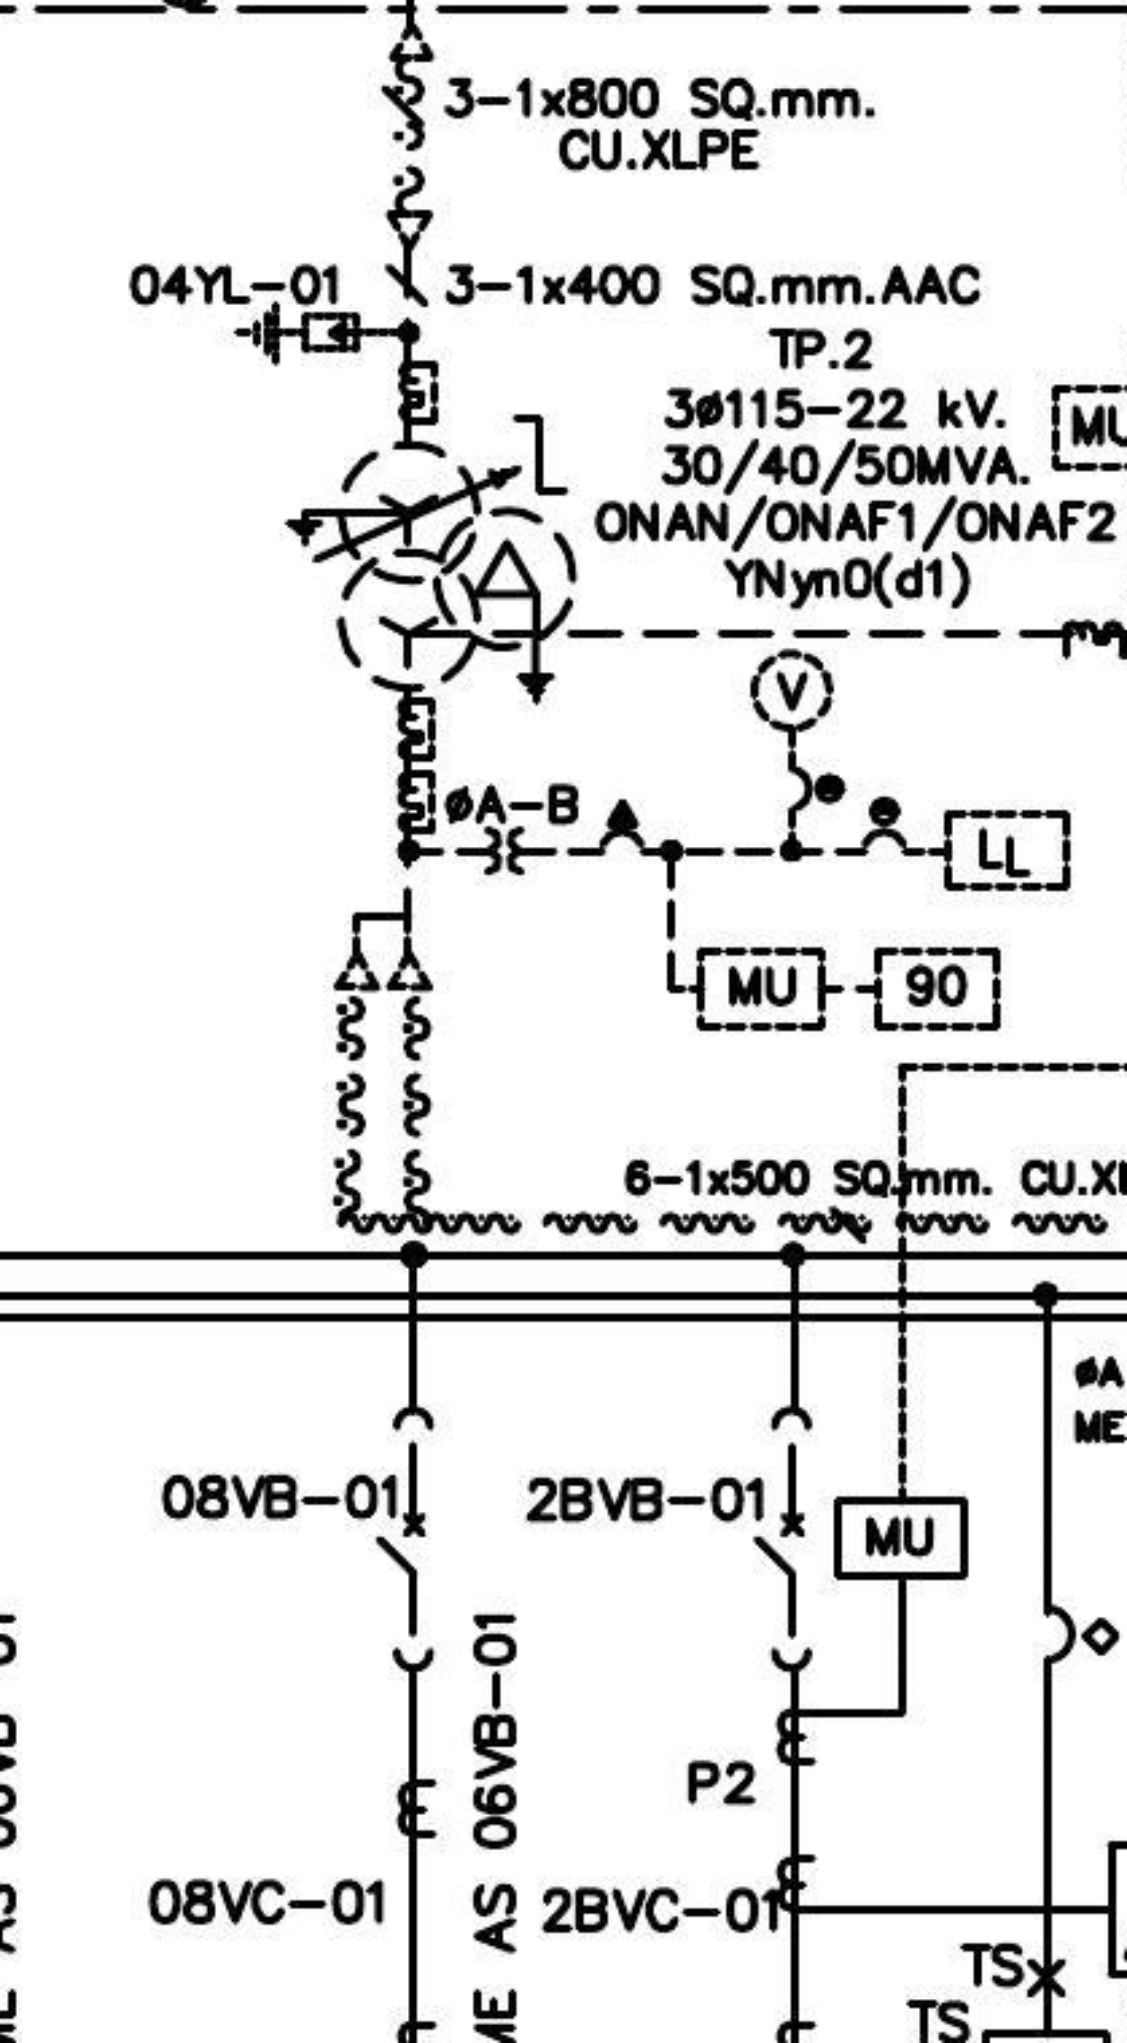22_breaker: (375, 1405, 437, 1672), (752, 1406, 815, 1674)
MU: (834, 1495, 969, 1582)
